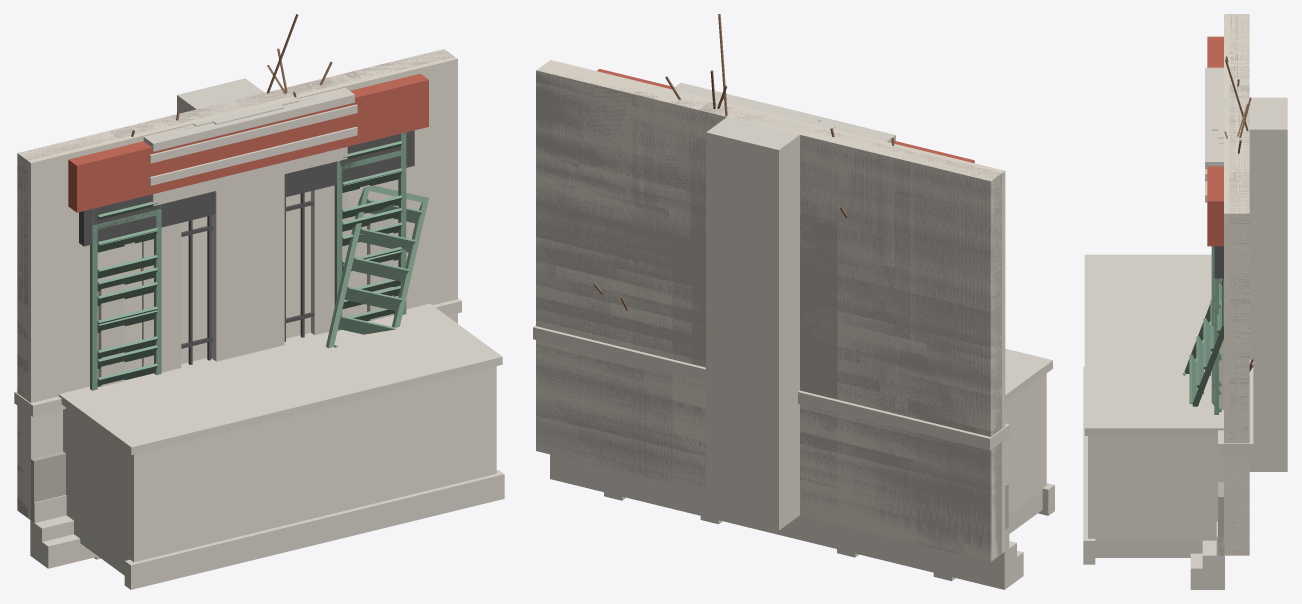
File: sabri_kit.glb
The picture shows the model from 3 angles, left to right: view 1: azimuth 30°, elevation 25°; view 2: azimuth 150°, elevation 25°; view 3: azimuth 270°, elevation 25°; orthographic projection. The views are drawn at different scales.
Visible parts, largest first — view 1: balcony_solid, balcony_rail, arch, shop, corner, dmg_hole0, win_broken, door, plain, win_modern, dmg_hole1, dmg_top0 (+6 smaller); view 2: dmg_hole0, arch, balcony_rail, corner, dmg_hole1, win_modern, parapet, dmg_hole2, dmg_top1, dmg_top0, door, balcony_solid (+2 smaller); view 3: balcony_solid, corner, arch, balcony_rail, dmg_hole0, door, parapet, shop, win_broken, win_italian, plain, base (+2 smaller).
Part boxes in pixels (<box>): balcony_solid: <box>58,303,502,561</box>; balcony_rail: <box>20,51,504,589</box>; arch: <box>17,49,457,519</box>; shop: <box>19,53,457,457</box>; corner: <box>177,78,284,361</box>; dmg_hole0: <box>17,49,457,517</box>; win_broken: <box>90,104,428,388</box>; door: <box>30,51,457,458</box>; plain: <box>31,58,457,456</box>; win_modern: <box>31,55,457,458</box>; dmg_hole1: <box>31,130,457,419</box>; dmg_top0: <box>131,48,456,363</box>; dmg_hole0: <box>536,69,1005,561</box>; arch: <box>536,60,1005,561</box>; balcony_rail: <box>536,60,1054,580</box>; corner: <box>706,101,820,530</box>; dmg_hole1: <box>536,143,990,501</box>; win_modern: <box>536,64,989,557</box>; parapet: <box>533,325,1023,589</box>; dmg_hole2: <box>536,62,1001,465</box>; dmg_top1: <box>536,14,960,554</box>; dmg_top0: <box>536,70,920,494</box>; door: <box>536,61,997,561</box>; balcony_solid: <box>1005,348,1052,515</box>; balcony_solid: <box>1084,254,1223,540</box>; corner: <box>1212,97,1287,471</box>; arch: <box>1218,14,1249,555</box>; balcony_rail: <box>1083,14,1249,564</box>; dmg_hole0: <box>1224,14,1249,555</box>; door: <box>1205,16,1249,211</box>; parapet: <box>1190,359,1253,589</box>; shop: <box>1207,14,1249,278</box>; win_broken: <box>1182,169,1223,406</box>; win_italian: <box>1211,246,1221,414</box>; plain: <box>1224,16,1249,211</box>; base: <box>1218,482,1224,555</box>.
Bounding box in the file's own units: 4.02 × 4.3 × 1.73.
